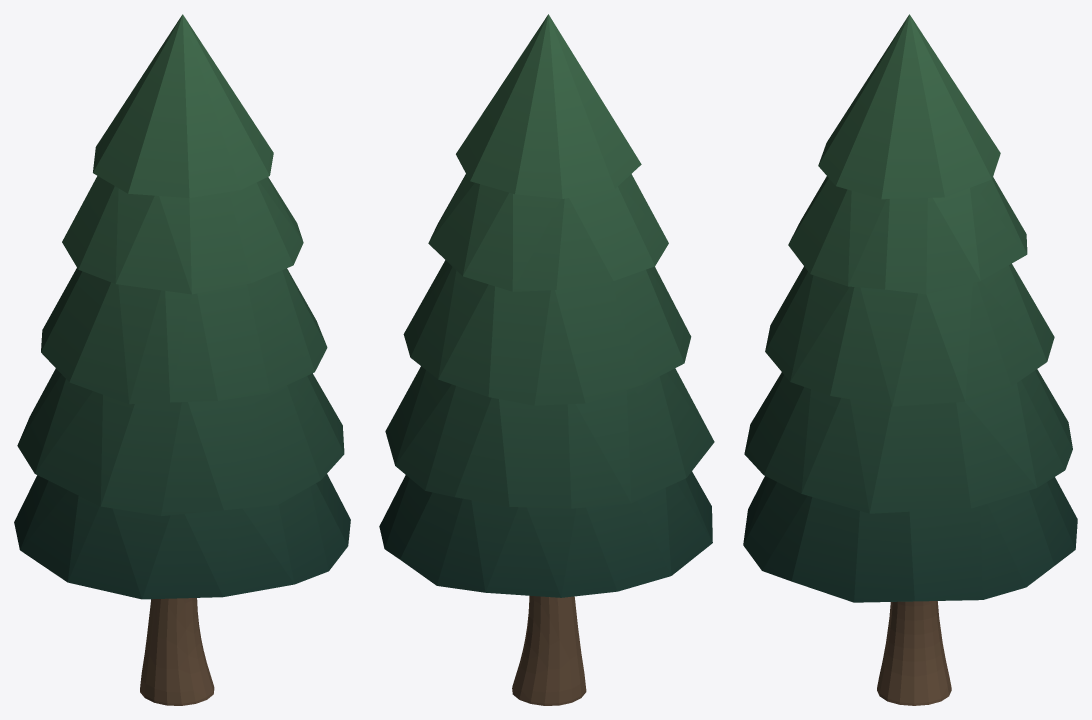
Rendered from lp_pine_01.glb.
3 renders of one model, left to right at view 1: azimuth 30°, elevation 25°; view 2: azimuth 150°, elevation 25°; view 3: azimuth 270°, elevation 25°, orthographic.
Visible parts, largest first — view 1: pine_tree_1; view 2: pine_tree_1; view 3: pine_tree_1.
Boxes of the visible parts, x1,y1,x2,y2 form: pine_tree_1: (14,14,350,705); pine_tree_1: (379,14,714,705); pine_tree_1: (743,14,1077,705).
Bounding box in the file's own units: 3.49 × 7.78 × 3.48.
